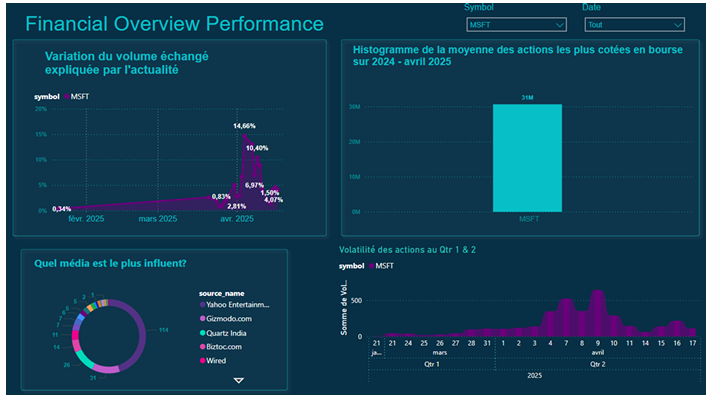

The dashboard page shown, as its layout file describes it:
{"tool":"powerbi","page":{"name":"Analyse Bourse & News","canvas":[1280,720],"ordinal":0},"visuals":[{"type":"shape","box":[15.6,62.2,583.6,373.5],"z":0},{"type":"textbox","box":[41.8,16.5,583.6,68.1],"z":1000},{"type":"areaChart","fields":{"Y":["Sum(curated.volume)"],"Category":["curated.date_only.Variation.Hiérarchie de dates.Année","curated.date_only.Variation.Hiérarchie de dates.Trimestre","curated.date_only.Variation.Hiérarchie de dates.Mois","curated.date_only.Variation.Hiérarchie de dates.Jour"],"Series":["curated.symbol"]},"box":[58.4,153.7,480.5,257.8],"z":2000},{"type":"textbox","box":[77.8,84.6,393.9,69.1],"z":3000},{"type":"shape","box":[607.9,62.2,665.3,373.5],"z":4000},{"type":"clusteredColumnChart","fields":{"Category":["curated.symbol"],"Y":["Avg(curated.volume)"]},"box":[625.4,153.7,631.2,257.8],"z":5000},{"type":"textbox","box":[633.2,73.9,613.7,69.1],"z":5001},{"type":"shape","box":[30.2,440.6,499.9,273.3],"z":5002},{"type":"donutChart","fields":{"Category":["curated.source_name"],"Y":["CountNonNull(curated.title)"]},"box":[30.2,514.5,475.6,184.8],"z":5003},{"type":"textbox","box":[58.4,456.2,355,43.8],"z":5004},{"type":"slicer","title":"Date","fields":{"Values":["curated.date_only"]},"box":[1046.6,4.9,200.4,57.4],"z":5005},{"type":"slicer","title":"Symbol","fields":{"Values":["curated.symbol"]},"box":[833.6,4.9,200.4,57.4],"z":5006},{"type":"ribbonChart","title":"Volatilité des actions au Qtr 1 & 2","fields":{"Y":["Sum(curated.Volatilité_Ligne)"],"Series":["curated.symbol"],"Category":["curated.date_only.Variation.Hiérarchie de dates.Année","curated.date_only.Variation.Hiérarchie de dates.Trimestre","curated.date_only.Variation.Hiérarchie de dates.Mois","curated.date_only.Variation.Hiérarchie de dates.Jour"]},"box":[608,441,665,273],"z":5007}]}

Visuals, with their boxes in screenshot pixels (x1, y1, x2, y2), scaled from the page's 1280x720 canvas onto the 713x401 screenshot:
shape: pyautogui.locateOnScreen(9, 35, 334, 243)
textbox: pyautogui.locateOnScreen(23, 9, 348, 47)
areaChart - Sum(curated.volume) x curated.date_only.Variation.Hiérarchie de dates.Année: pyautogui.locateOnScreen(33, 86, 300, 229)
textbox: pyautogui.locateOnScreen(43, 47, 263, 86)
shape: pyautogui.locateOnScreen(339, 35, 709, 243)
clusteredColumnChart - curated.symbol x Avg(curated.volume): pyautogui.locateOnScreen(348, 86, 700, 229)
textbox: pyautogui.locateOnScreen(353, 41, 695, 80)
shape: pyautogui.locateOnScreen(17, 245, 295, 398)
donutChart - curated.source_name x CountNonNull(curated.title): pyautogui.locateOnScreen(17, 287, 282, 389)
textbox: pyautogui.locateOnScreen(33, 254, 230, 278)
"Date" slicer: pyautogui.locateOnScreen(583, 3, 695, 35)
"Symbol" slicer: pyautogui.locateOnScreen(464, 3, 576, 35)
"Volatilité des actions au Qtr 1 & 2" ribbonChart: pyautogui.locateOnScreen(339, 246, 709, 398)
